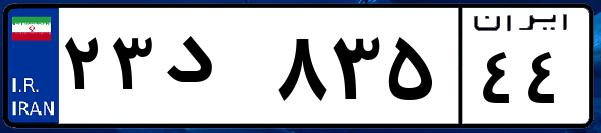2: (57, 26, 110, 100)
3: (330, 28, 385, 110), (110, 28, 158, 98)
4: (475, 38, 525, 113), (525, 38, 570, 115)
5: (385, 28, 445, 110)
8: (270, 28, 330, 110)
د: (158, 20, 270, 120)
